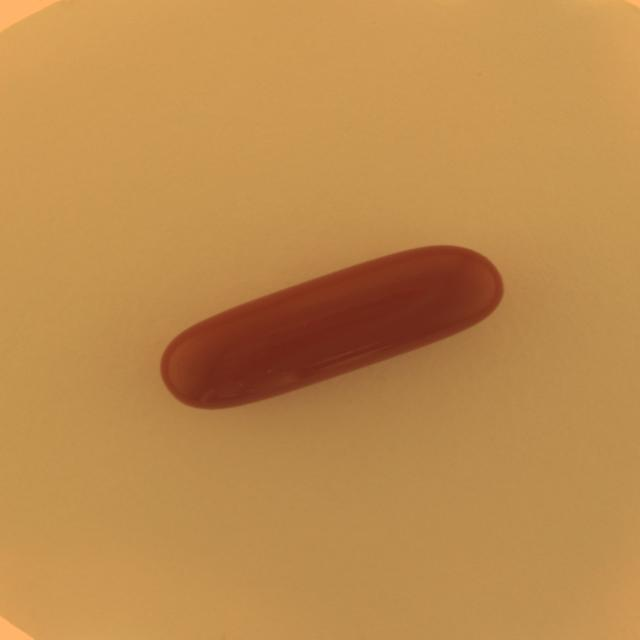Oval: (158, 242, 500, 411)
